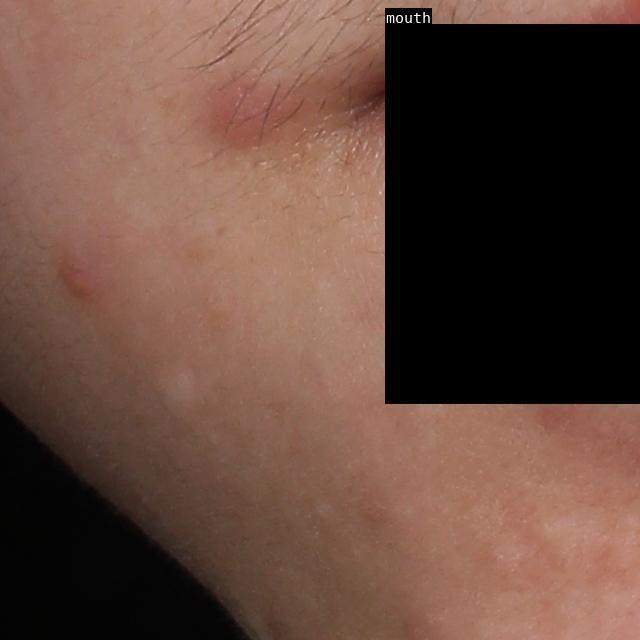hypertrophic_scar: (150, 365, 205, 422)
papule: (207, 82, 267, 163), (56, 256, 104, 302)
